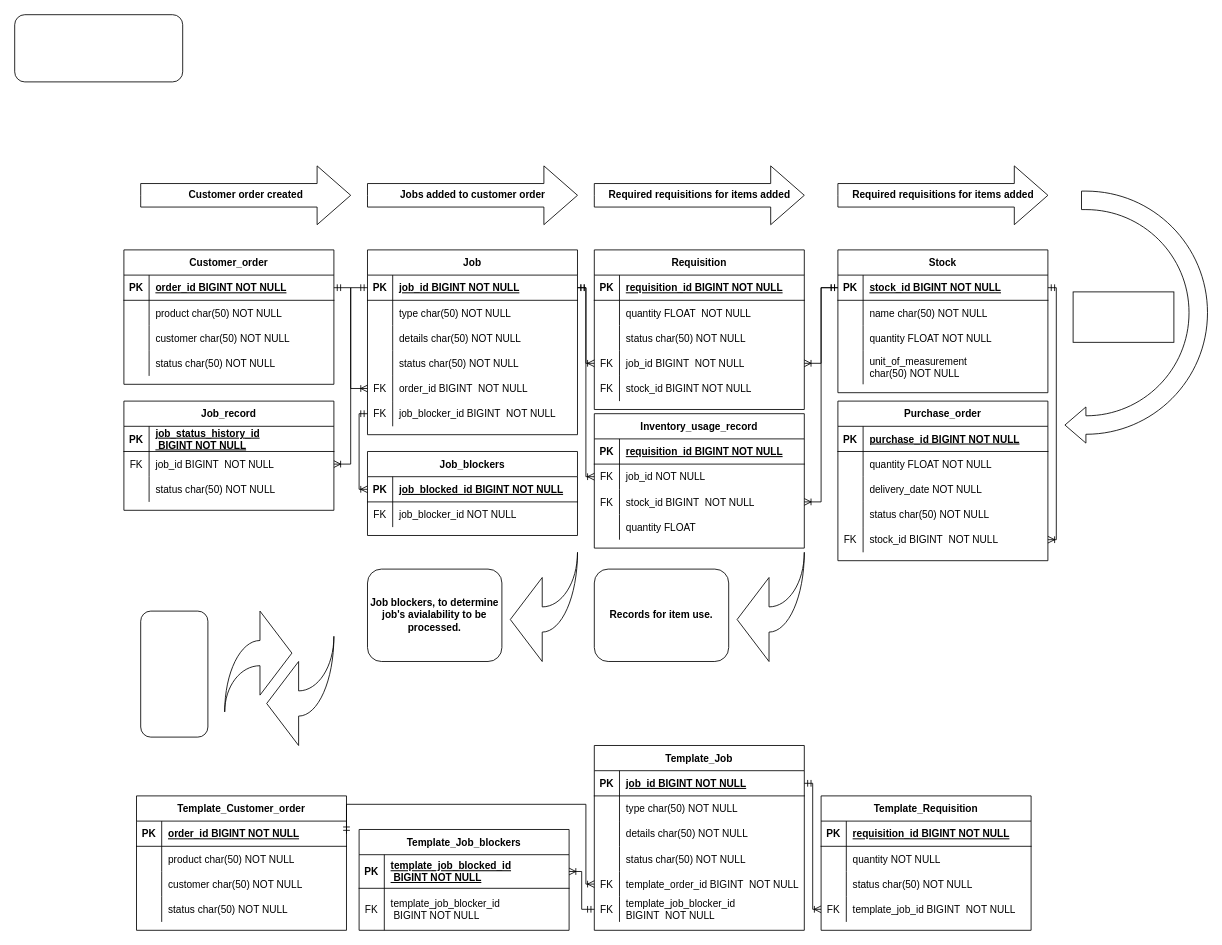
The diagram is 1222 pixels wide and 945 high, and some of its shapes have lost their labels. The centre of each missing label's shape, as x and y in pixels:
"MRP AP I Material requirement planning stystem." belongs at [98,48].
"Order templating process" belongs at [174,673].
"Required items ordered" belongs at [1123,316].
